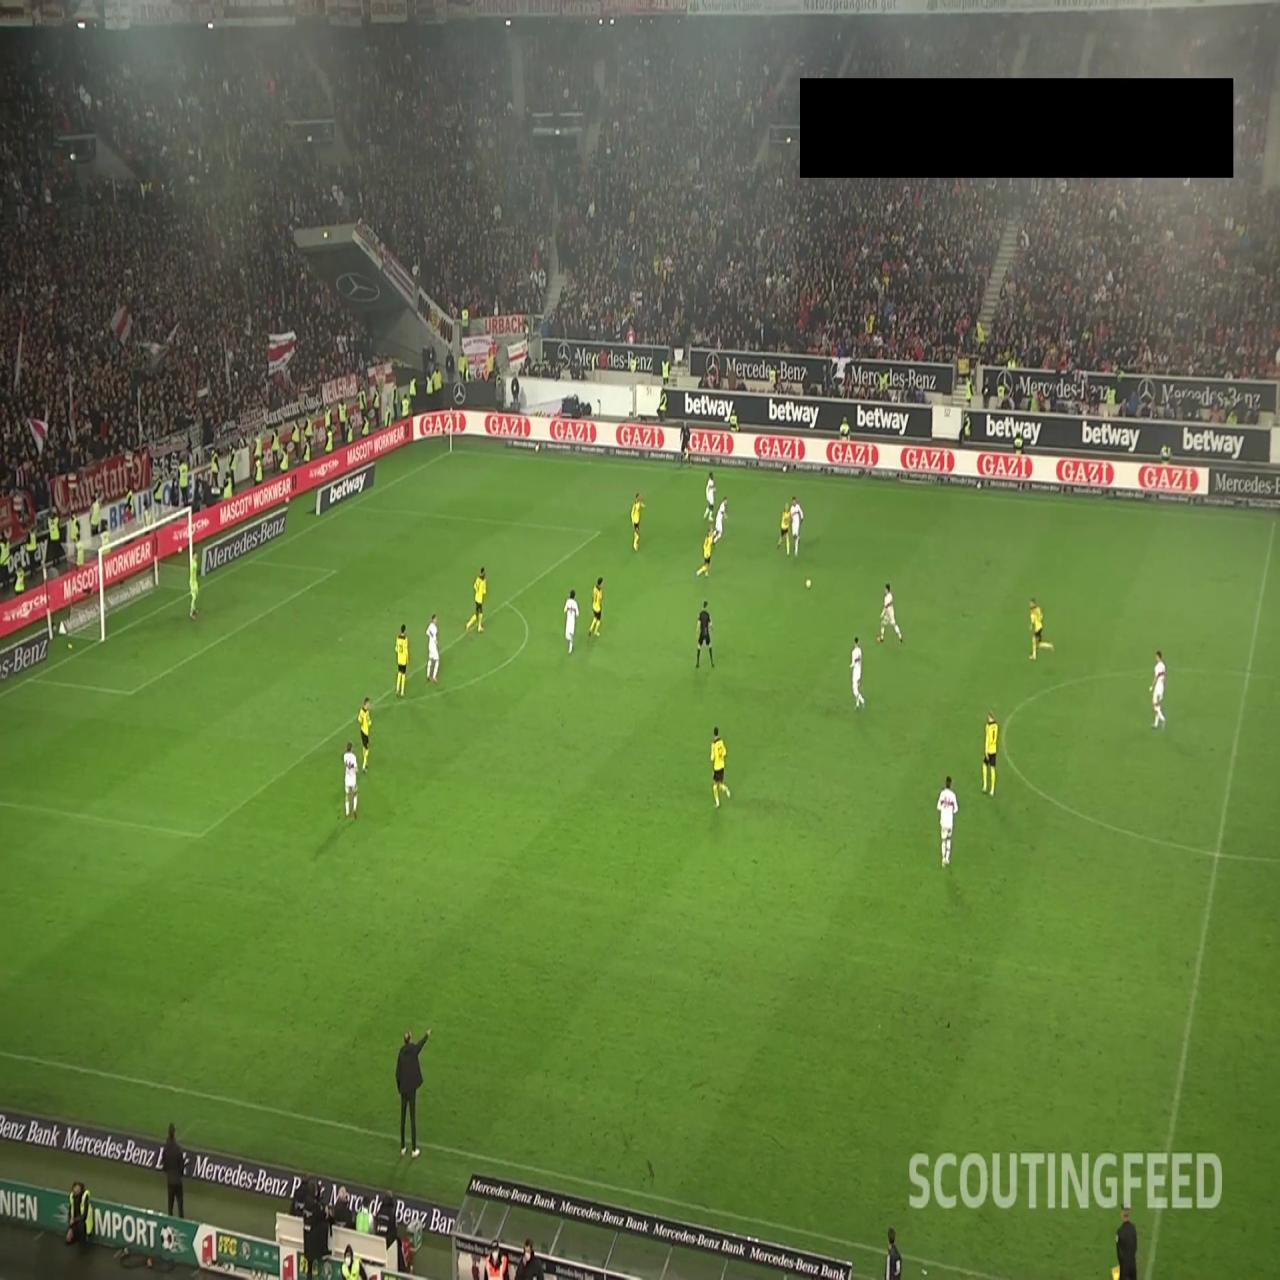ball: (805, 578, 812, 590)
goalkeeper: (187, 549, 200, 621)
player: (936, 774, 959, 867), (1027, 596, 1055, 664), (875, 582, 904, 645), (710, 725, 731, 807), (464, 568, 488, 635), (982, 708, 999, 798), (1150, 648, 1167, 730), (342, 740, 358, 819), (850, 635, 866, 710), (563, 588, 580, 655), (358, 696, 373, 771), (696, 522, 716, 578), (395, 622, 409, 699), (425, 613, 440, 684), (587, 576, 604, 638), (709, 494, 729, 546), (789, 494, 804, 557), (630, 492, 644, 551), (776, 502, 791, 557), (702, 471, 716, 523)
referee: (1110, 1204, 1138, 1280), (694, 600, 714, 670), (679, 419, 693, 470)
